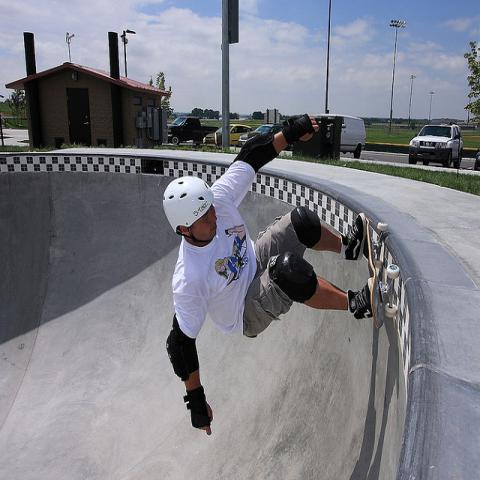car: (202, 124, 253, 146), (237, 124, 274, 146)
truck: (407, 116, 464, 167), (311, 113, 367, 158), (167, 115, 219, 144)
